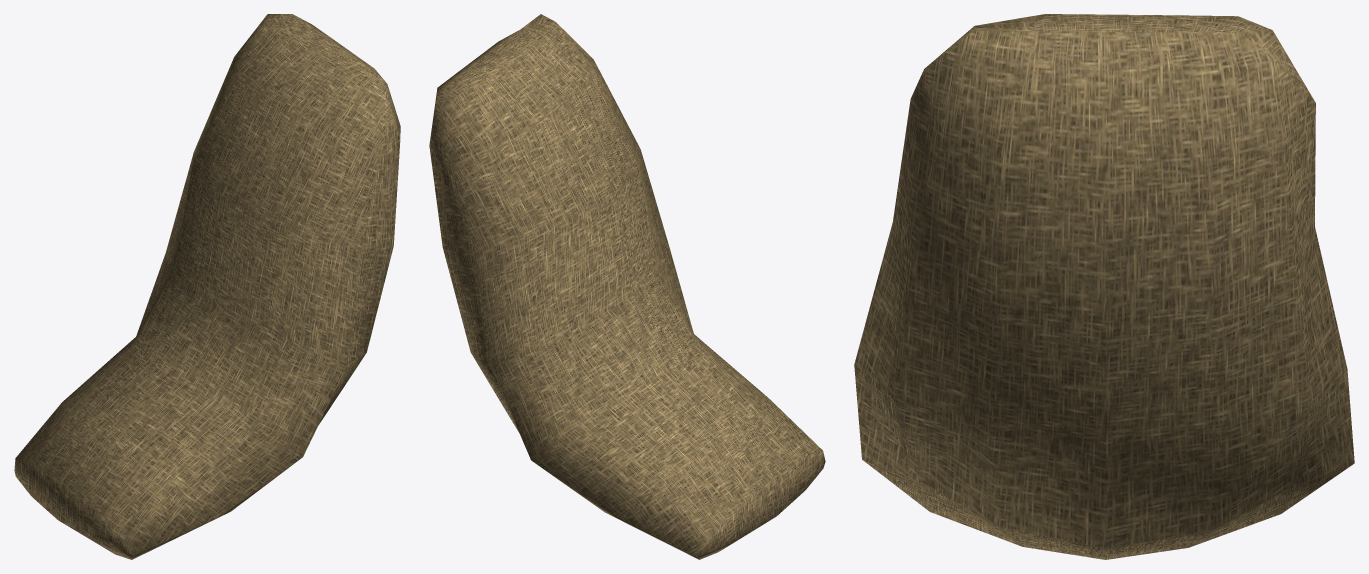
Rendered from sack_bent.fbx.
3 renders of one model, left to right at view 1: azimuth 30°, elevation 25°; view 2: azimuth 150°, elevation 25°; view 3: azimuth 270°, elevation 25°, orthographic. The views are drawn at different scales.
Visible parts, largest first — view 1: sacks_001; view 2: sacks_001; view 3: sacks_001.
Boxes of the visible parts, left/top/right/bottom form: sacks_001: left=14, top=14, right=400, bottom=559; sacks_001: left=429, top=14, right=825, bottom=559; sacks_001: left=854, top=14, right=1354, bottom=559.
Bounding box in the file's own units: 5.46 × 7.04 × 4.76.
